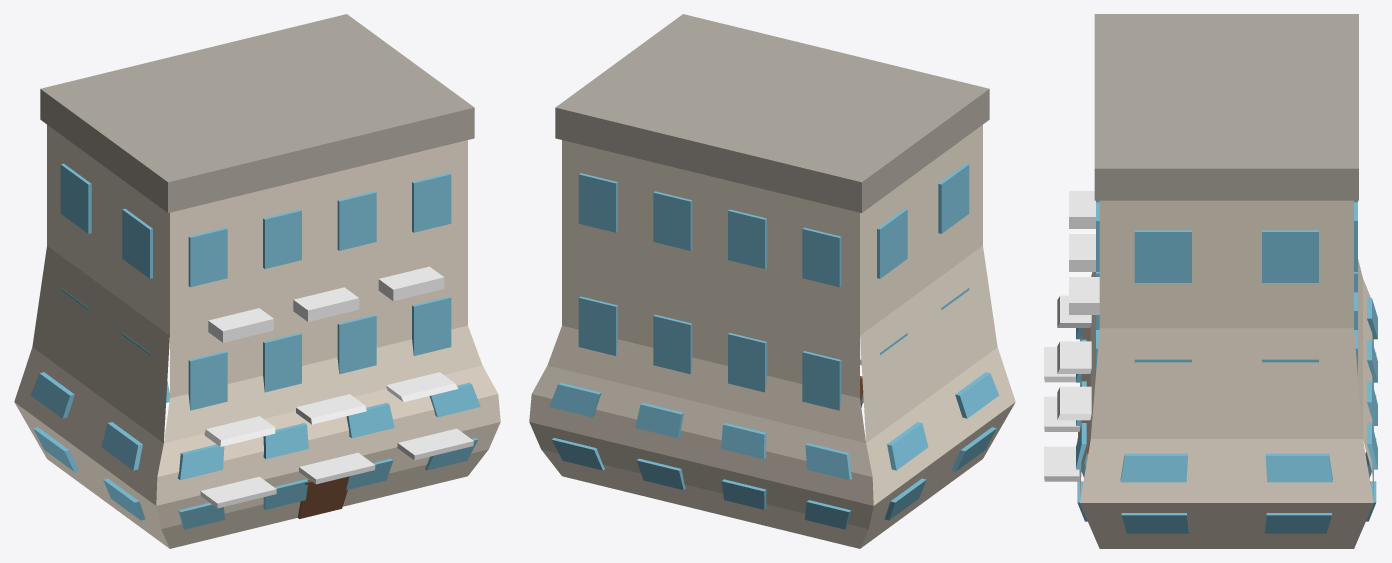
File: apartment.glb
3 views of the same model, side by side, from view 1: azimuth 30°, elevation 25°; view 2: azimuth 150°, elevation 25°; view 3: azimuth 270°, elevation 25° (orthographic). The views are drawn at different scales.
Parts seen in each view (by area): view 1: apartment_wall_cream, apartment_roof_flat, apartment_window, apartment_white, apartment_door; view 2: apartment_wall_cream, apartment_roof_flat, apartment_window; view 3: apartment_wall_cream, apartment_roof_flat, apartment_window, apartment_white.
Part boxes in pixels (x1,y1,x2,y2): apartment_wall_cream: (14, 125, 500, 548); apartment_roof_flat: (40, 14, 474, 212); apartment_window: (30, 163, 480, 529); apartment_white: (200, 266, 473, 508); apartment_door: (297, 476, 349, 518); apartment_wall_cream: (529, 125, 1015, 548); apartment_roof_flat: (555, 14, 989, 212); apartment_window: (549, 163, 999, 529); apartment_wall_cream: (1080, 200, 1373, 548); apartment_roof_flat: (1094, 14, 1358, 200); apartment_window: (1076, 200, 1377, 533); apartment_white: (1044, 191, 1099, 481).
Size of the model in its own units: 17.15 by 17.25 by 13.65.
